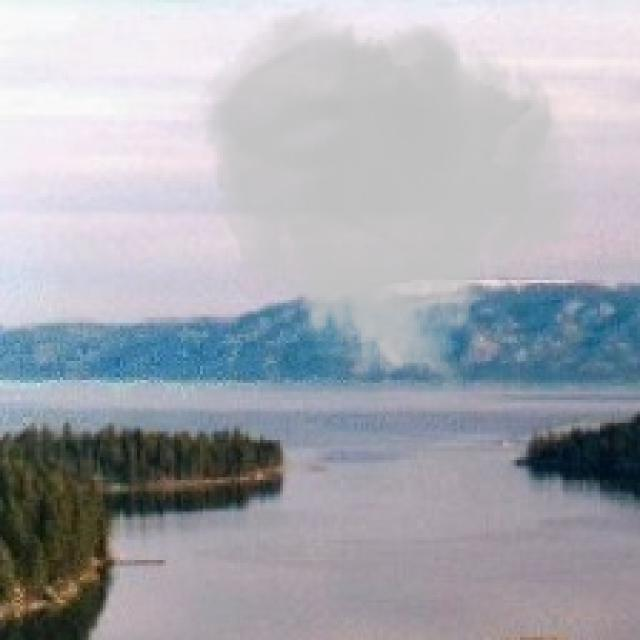smoke: (197, 3, 583, 397)
